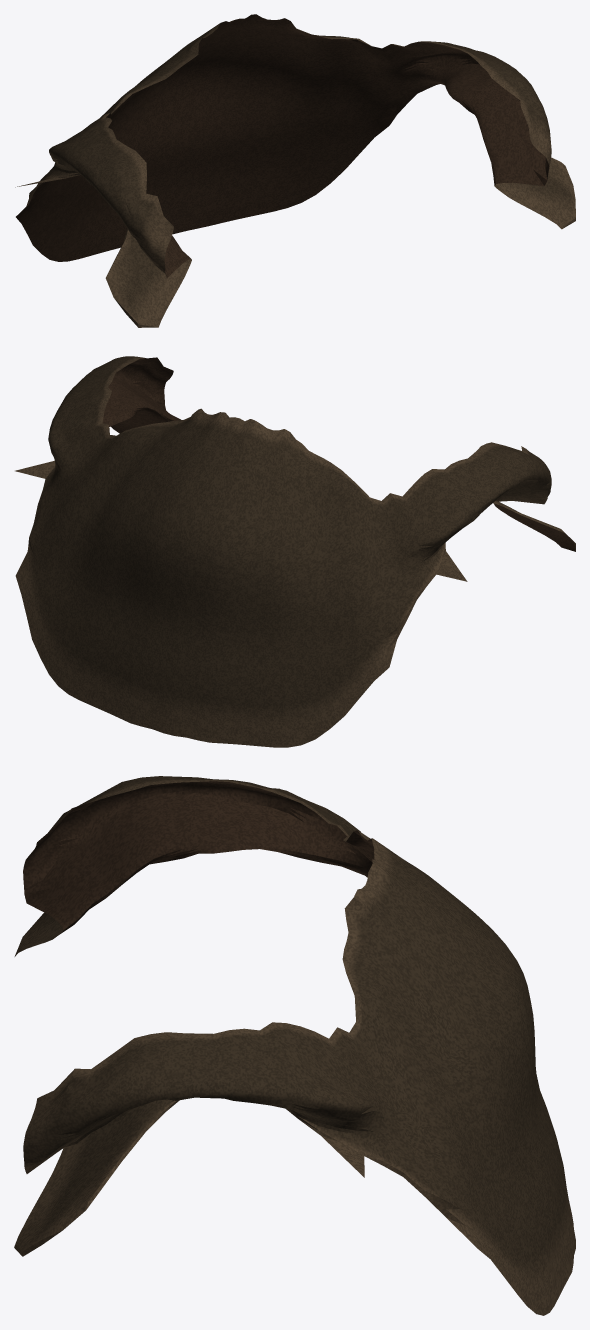
Rendered from stalker-mantle-v1.glb.
3 views of the same model, one above another, from view 1: azimuth 30°, elevation 25°; view 2: azimuth 150°, elevation 25°; view 3: azimuth 270°, elevation 25° (orthographic). The views are drawn at different scales.
Visible parts, largest first — view 1: mantle; view 2: mantle; view 3: mantle.
Part boxes in pixels (box(x1,y1,x2,y2)): mantle: box(15, 14, 575, 327); mantle: box(15, 356, 575, 747); mantle: box(14, 776, 575, 1315).
Size of the model in its own units: 0.3806 by 0.2119 by 0.2736.
1 material, 1 textured.
